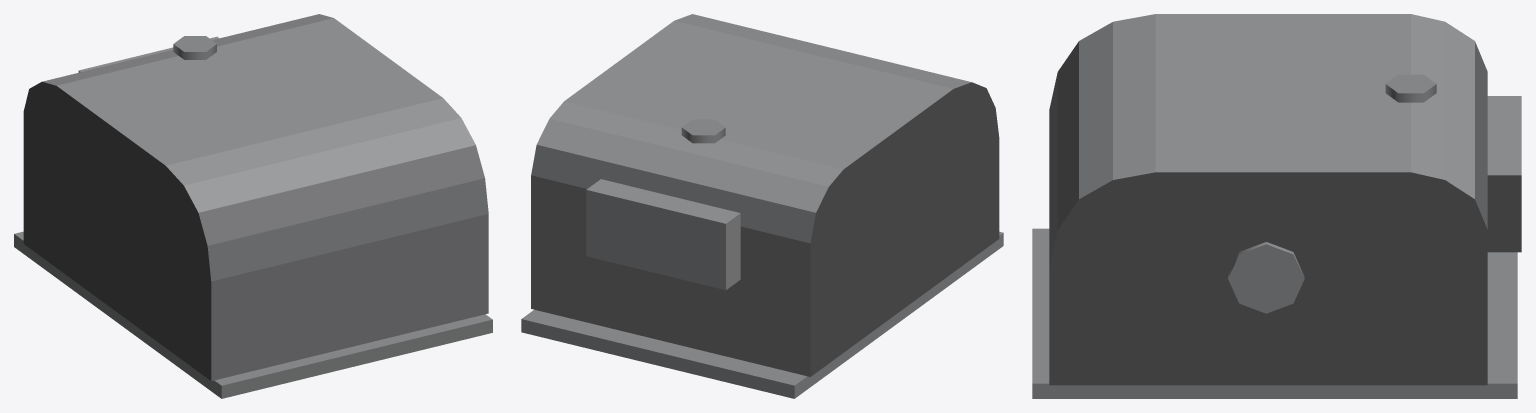
The picture shows the model from 3 angles, left to right: view 1: azimuth 30°, elevation 25°; view 2: azimuth 150°, elevation 25°; view 3: azimuth 270°, elevation 25°; orthographic projection. The views are drawn at different scales.
Size of the model in its own units: 0.454 by 0.308 by 0.575.
